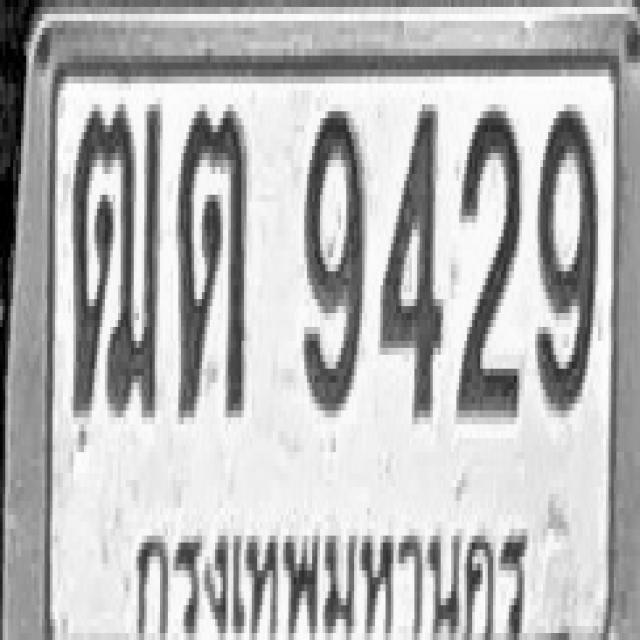2: (455, 105, 521, 418)
27ThorPhuThao: (70, 101, 162, 421)
30TorTao: (176, 105, 247, 418)
4: (379, 98, 442, 418)
9: (535, 104, 598, 410), (302, 104, 364, 410)
Bangkok: (127, 502, 539, 640)
